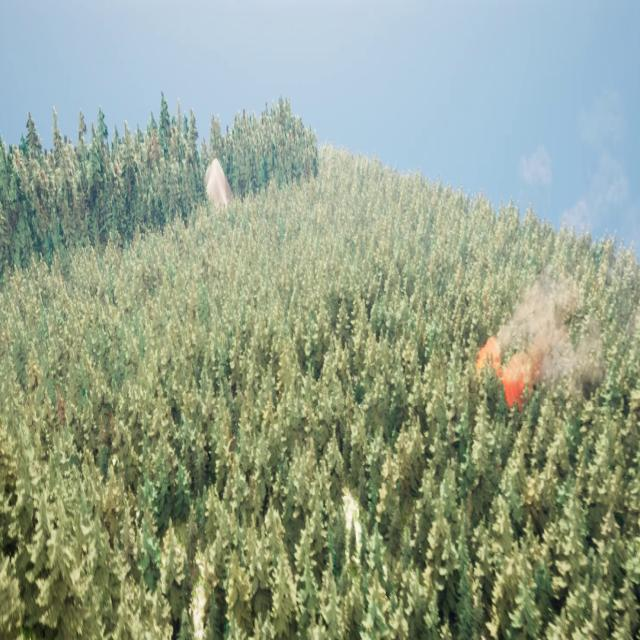fire: (476, 332, 526, 400)
smoke: (502, 93, 640, 380)
